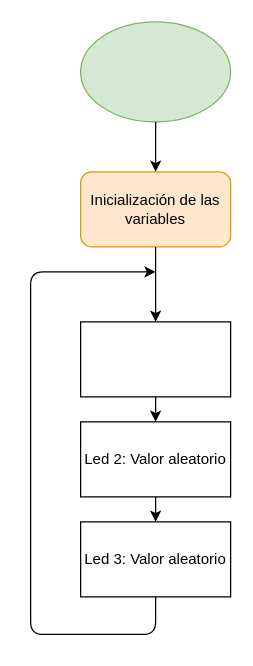
Image size: 253x666. Some labels were removed from this diagram. The shapes that lost their labels are listed below. From the top down, each one's box as (x1, y1, x2, y2) in pixels, then its label:
(79, 21, 231, 122): INICIO
(79, 321, 231, 397): Led 1: Valor aleatorio
